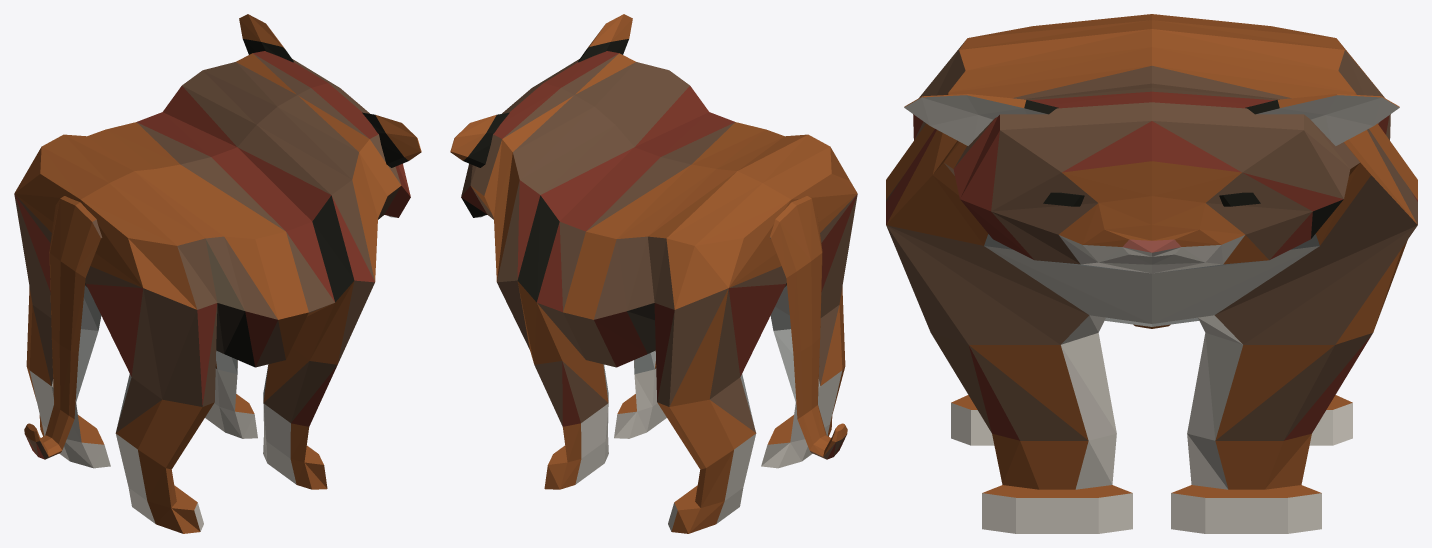
Rendered from tiger.glb.
3 renders of one model, left to right at view 1: azimuth 30°, elevation 25°; view 2: azimuth 150°, elevation 25°; view 3: azimuth 270°, elevation 25°, orthographic. The views are drawn at different scales.
Bounding box in the file's own units: 1 × 1 × 1.
